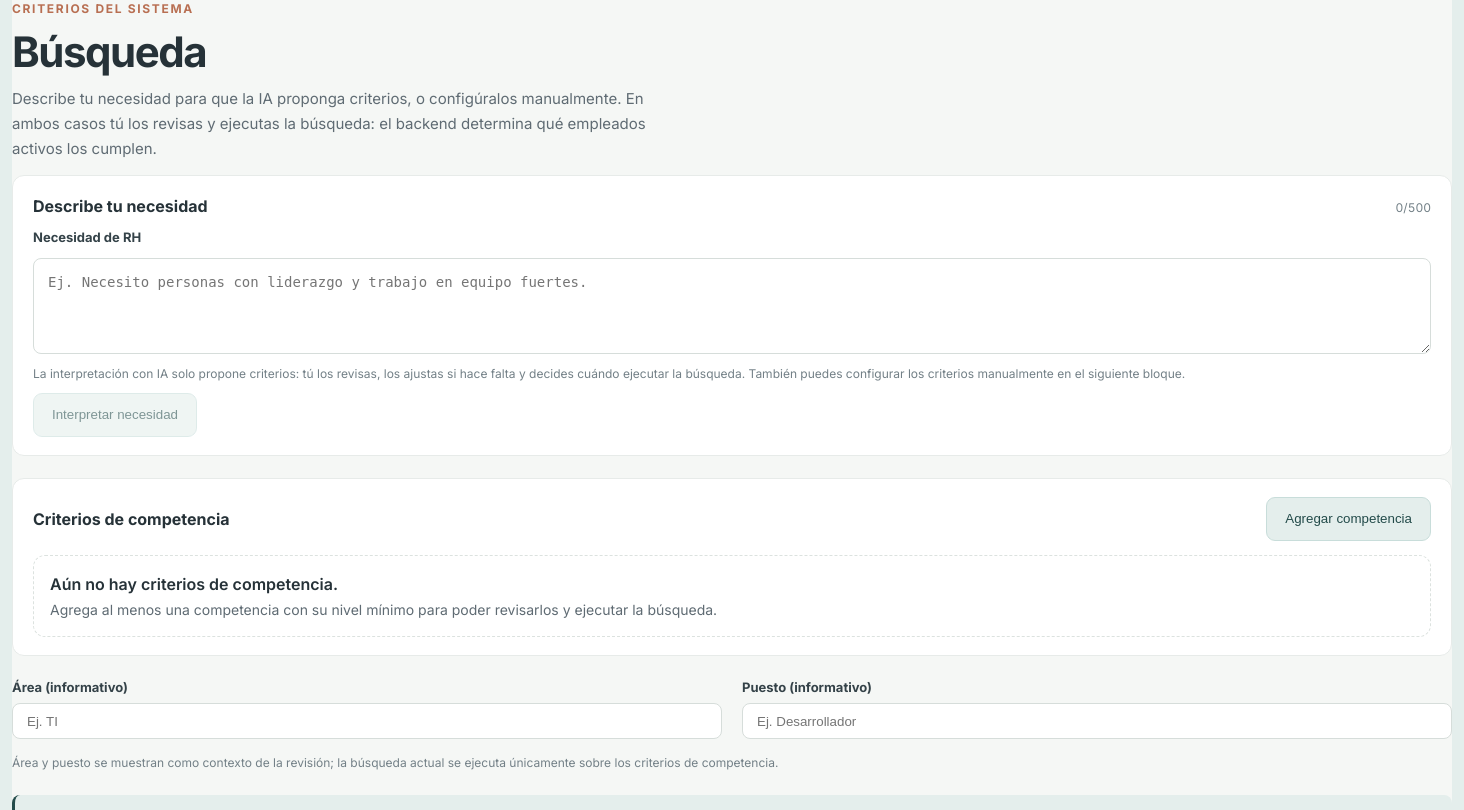
Test: Búsqueda — criterios de competencia › agregar un criterio usa la competencia por defecto con nivel mínimo 4
The width and height of the screenshot is (1464, 810).
Click the button "Agregar competencia".
click(1349, 519)  # box 1266,497 -> 1431,541
(page scrolled)
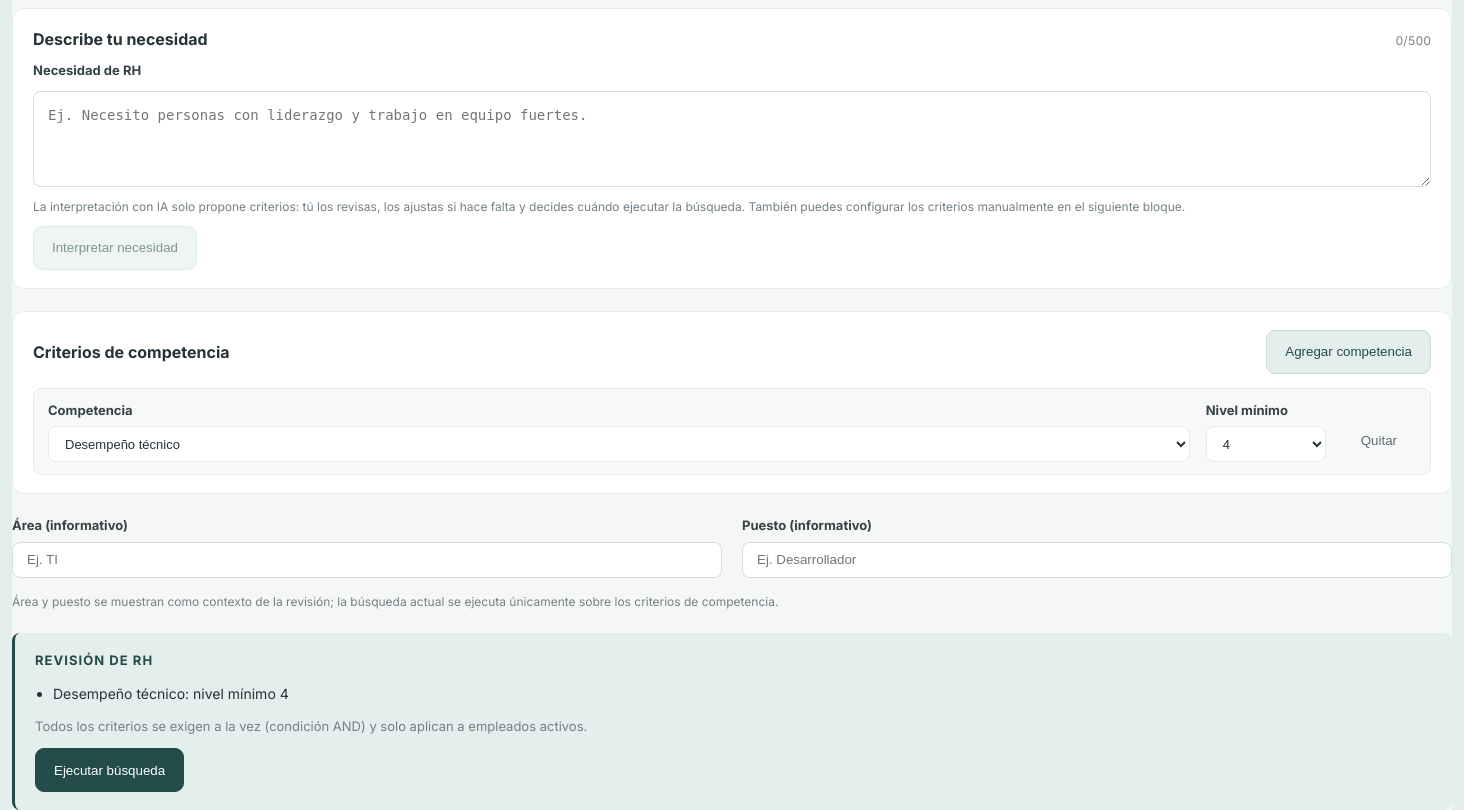
Expected: the dropdown named "Competencia del criterio 1" shows "Desempeño técnico", 48,426 -> 1190,462
Expected: the dropdown named "Nivel mínimo del criterio 1" shows "4", 1206,426 -> 1326,462
Expected: the list item "Desempeño técnico: nivel mínimo 4" is shown, 53,685 -> 289,702
